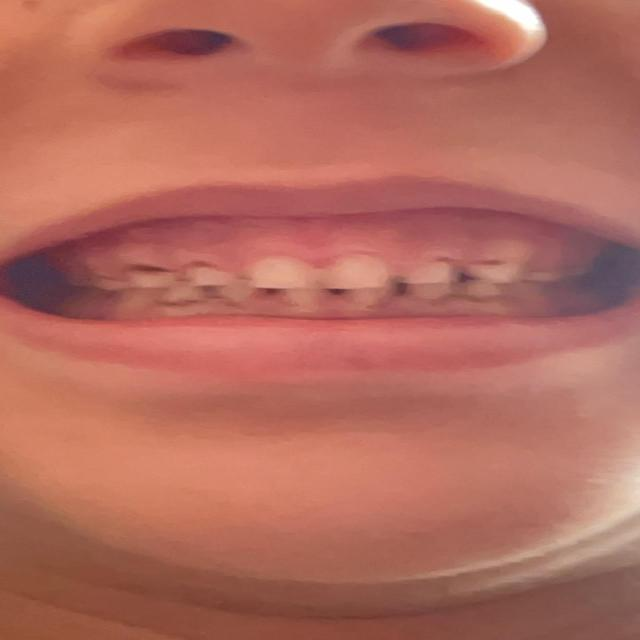tooth: (320, 260, 388, 288), (253, 264, 315, 288), (470, 262, 511, 284), (399, 266, 449, 284), (131, 264, 165, 288), (186, 268, 228, 286), (412, 286, 447, 301), (169, 288, 198, 304), (475, 283, 502, 299), (286, 289, 316, 303), (359, 288, 388, 300), (95, 270, 116, 286), (222, 288, 258, 297)
